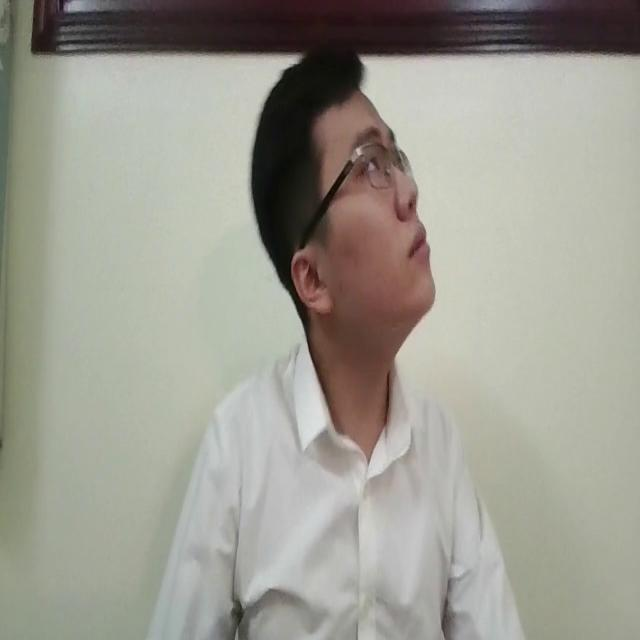student: (146, 28, 527, 640)
